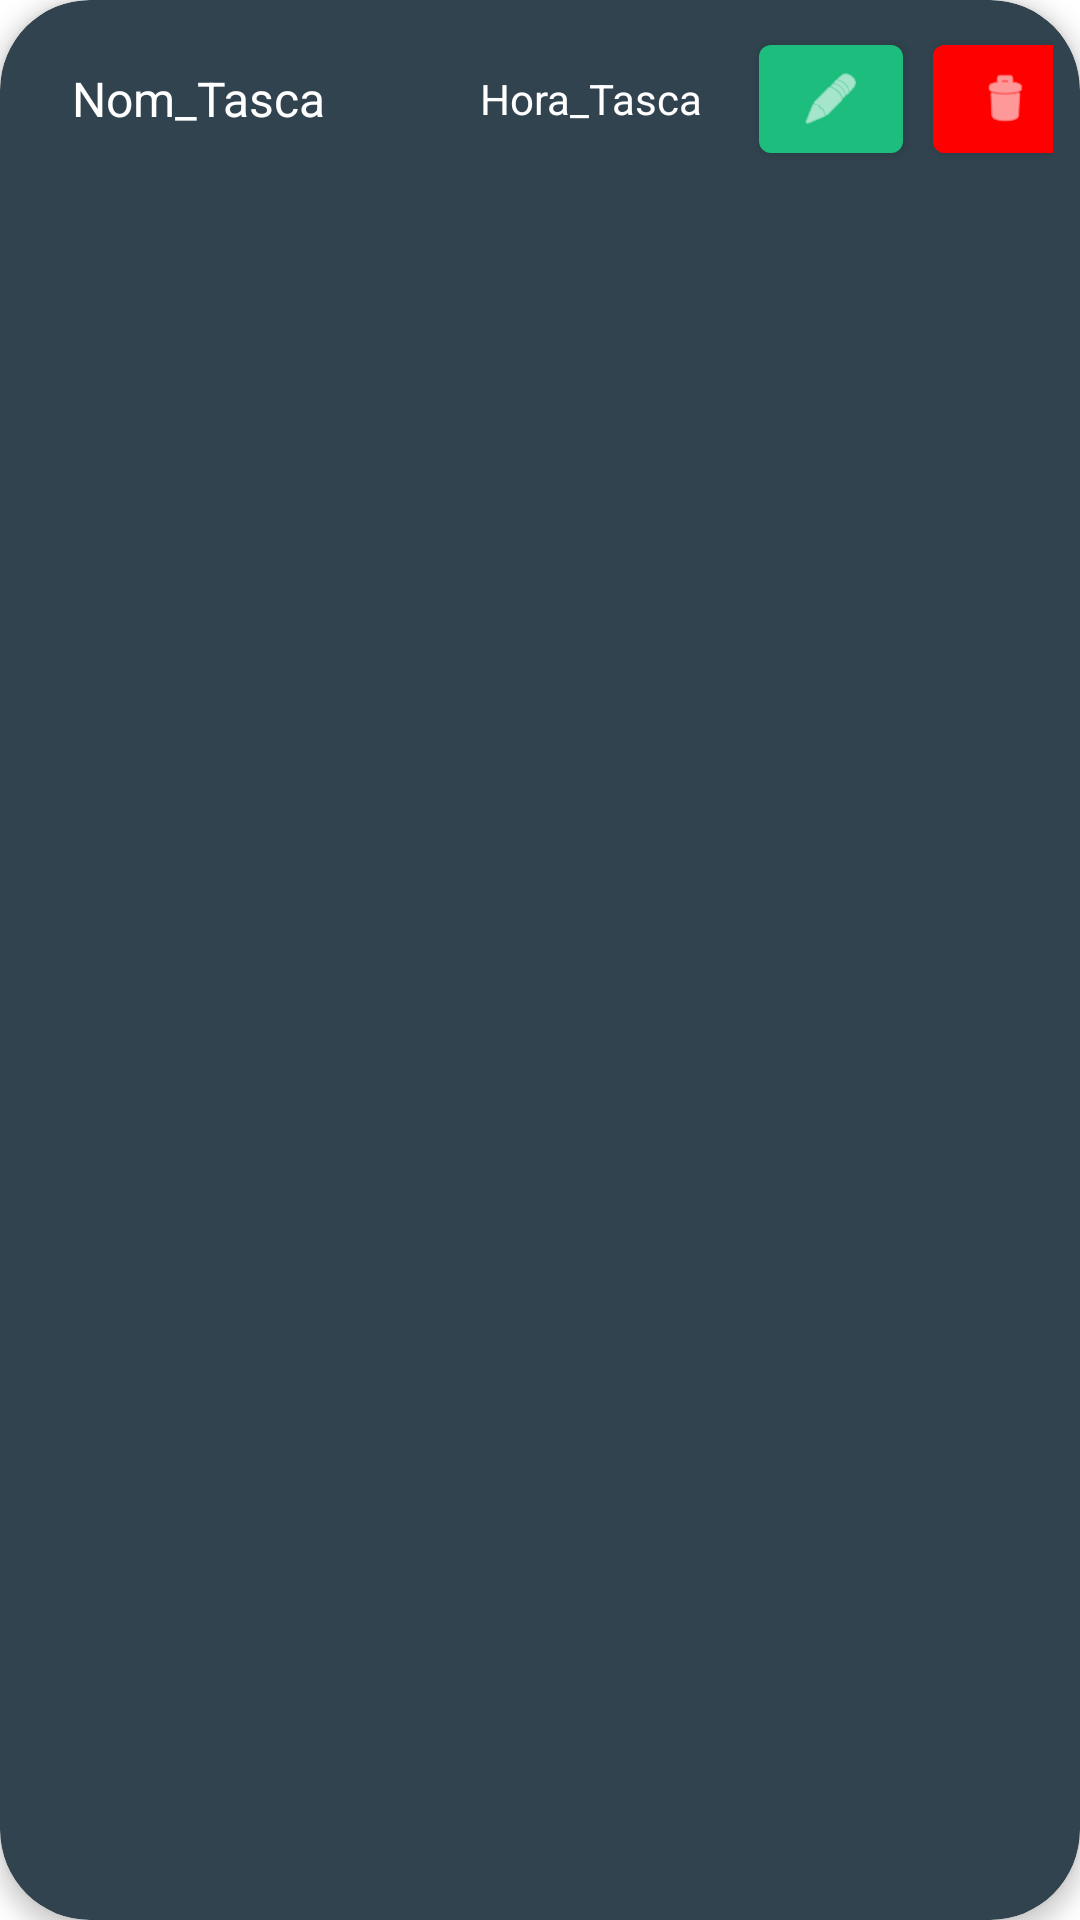

Icon click points for this 1080 × 1920 phone screenshot, format (x=x, y=y):
delete: (x=993, y=99)
edit: (x=831, y=99)
